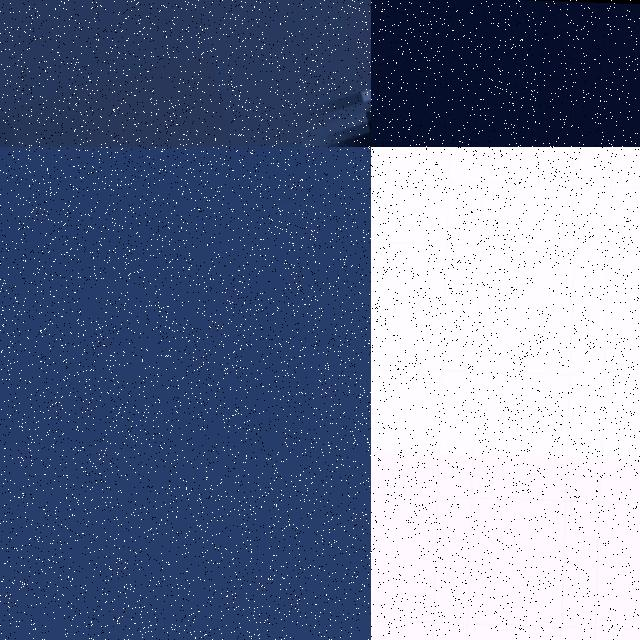drone: (0, 0, 371, 147)
